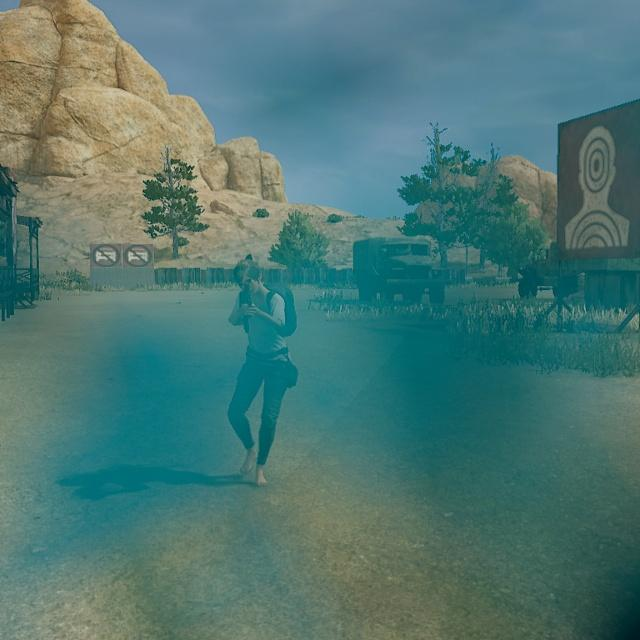head: (231, 258, 266, 297)
people: (223, 256, 297, 493)
